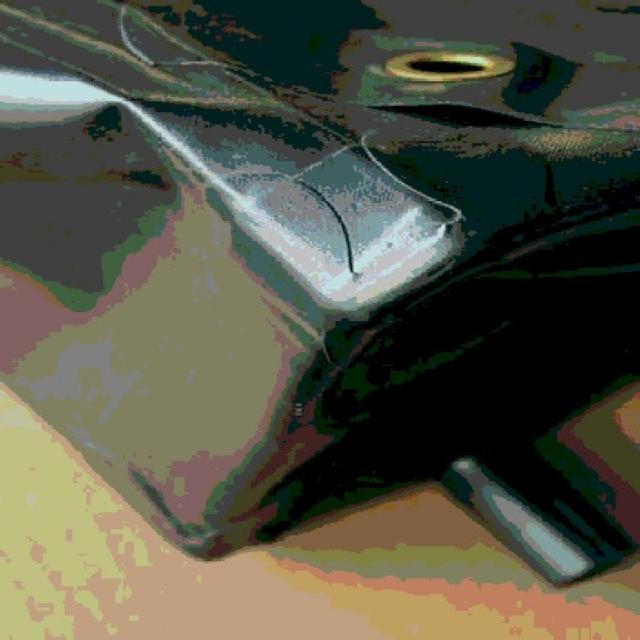crack: (314, 156, 374, 284)
